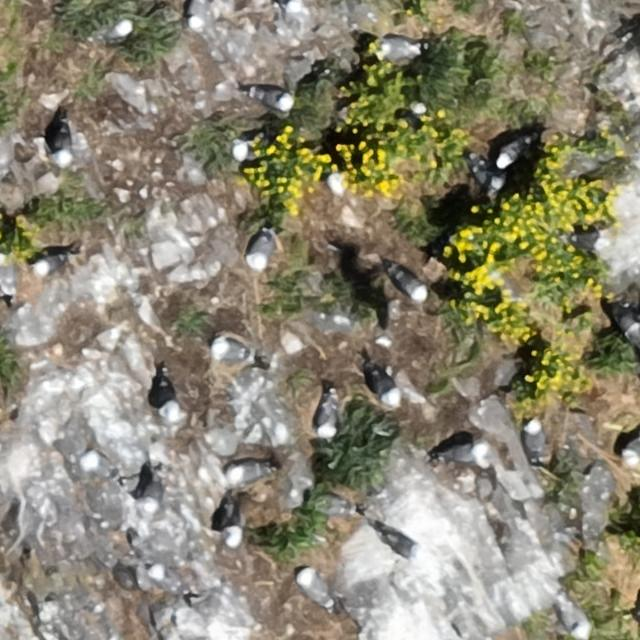umineko: (379, 530, 424, 559), (393, 269, 428, 300), (300, 572, 331, 606), (79, 454, 118, 480), (562, 600, 590, 636), (249, 230, 274, 266), (184, 2, 211, 35), (373, 370, 399, 404), (252, 88, 292, 110), (315, 397, 336, 437), (471, 162, 501, 190), (498, 136, 525, 166), (523, 421, 543, 461), (438, 444, 480, 463), (212, 339, 248, 361), (381, 39, 418, 60), (157, 380, 178, 417), (52, 125, 72, 162), (98, 20, 132, 40), (230, 462, 264, 482), (223, 515, 243, 547), (144, 472, 161, 509), (35, 254, 66, 274), (232, 142, 252, 162)
